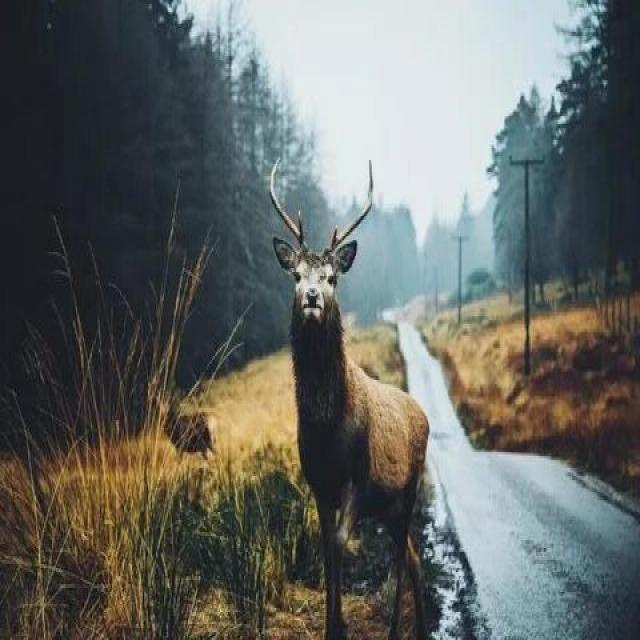deer: (195, 138, 505, 626)
